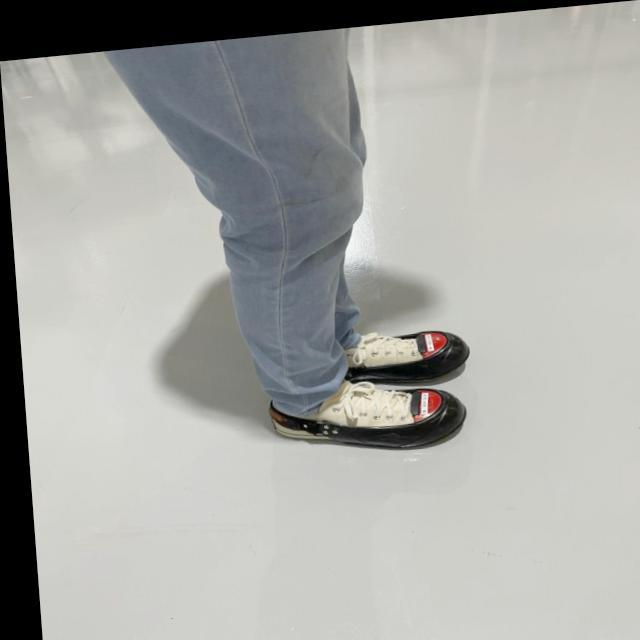shoes: (267, 382, 471, 450), (345, 323, 472, 381)
